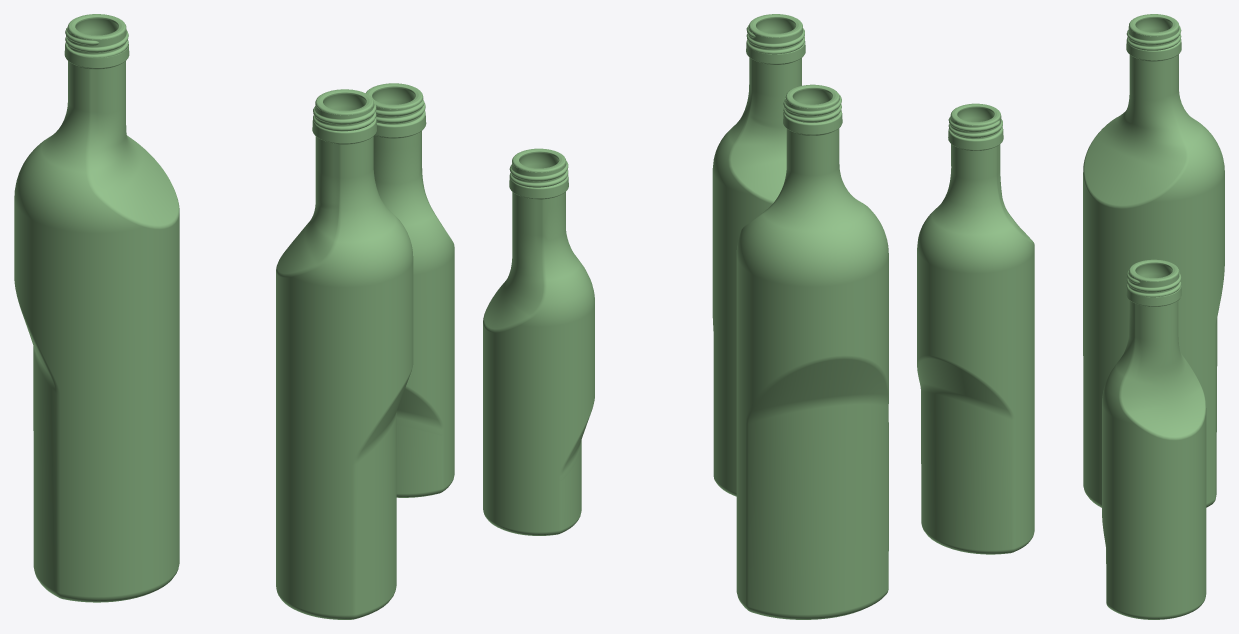
3 views of the same model, side by side, from view 1: azimuth 30°, elevation 25°; view 2: azimuth 150°, elevation 25°; view 3: azimuth 270°, elevation 25° (orthographic). The views are drawn at different scales.
Visible parts, largest first — view 1: Mesh_0.002, Mesh_1.002, Mesh_2.002; view 2: Mesh_0.002, Mesh_2.002, Mesh_1.002; view 3: Mesh_1.002, Mesh_0.002, Mesh_2.002.
Boxes of the visible parts, x1,y1,x2,y2 form: Mesh_0.002: [14, 14, 179, 602]; Mesh_1.002: [276, 89, 413, 619]; Mesh_2.002: [366, 83, 454, 497]; Mesh_0.002: [736, 84, 888, 619]; Mesh_2.002: [483, 148, 594, 535]; Mesh_1.002: [712, 14, 805, 496]; Mesh_1.002: [917, 103, 1034, 554]; Mesh_0.002: [1083, 14, 1224, 507]; Mesh_2.002: [1102, 259, 1206, 619].
Bounding box in the file's own units: 408 × 505 × 301.
